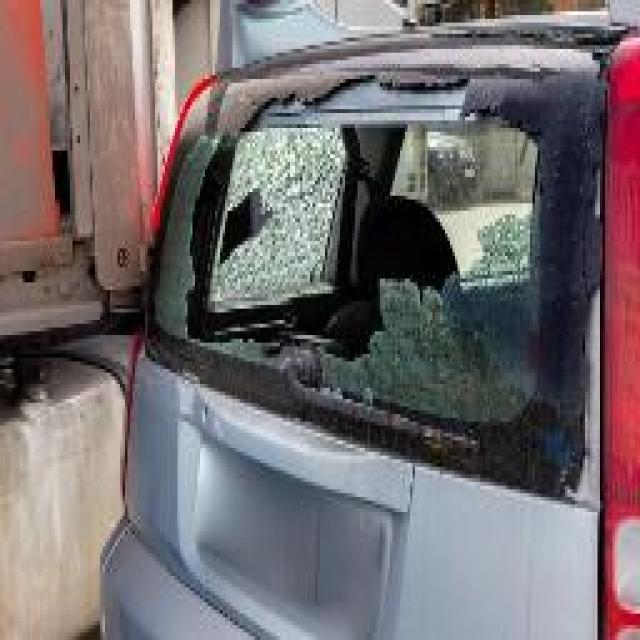Windshield: (145, 83, 568, 461)
